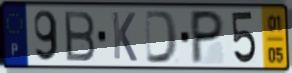5: (230, 10, 257, 65)
9: (32, 9, 59, 64)
B: (62, 9, 97, 63)
D: (144, 9, 181, 66)
K: (110, 10, 139, 64)
P: (189, 9, 226, 66)
